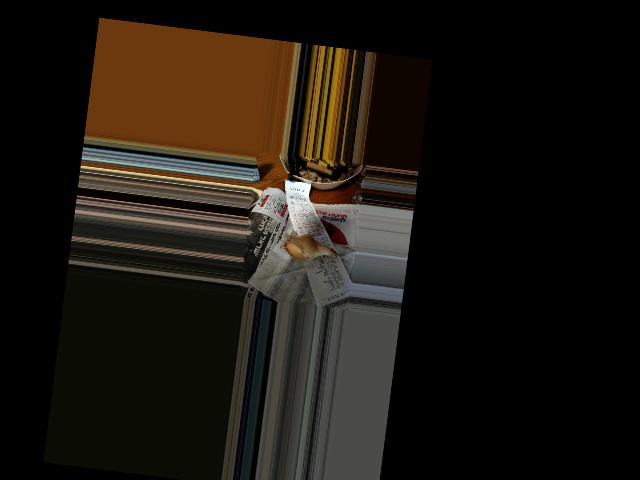onion: (282, 230, 333, 265)
